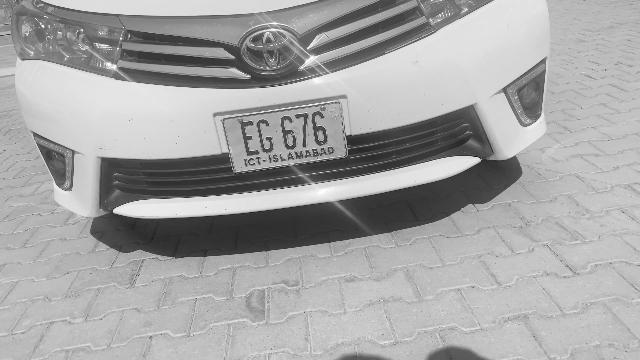Number: (236, 110, 333, 158)
